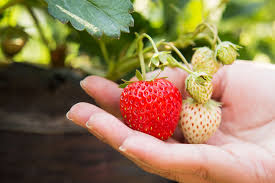ripe: (116, 70, 181, 144)
unripe: (177, 98, 225, 149), (183, 70, 216, 107), (189, 46, 217, 75), (215, 40, 239, 66)
